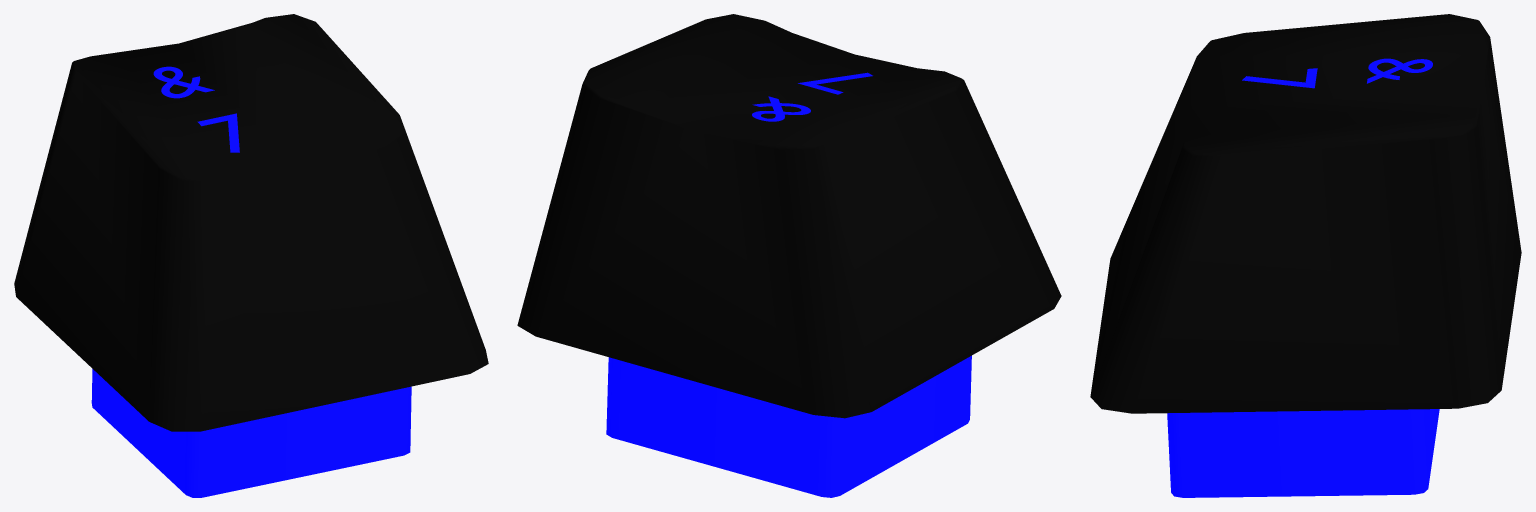
The model's file is key_7_1-CVq_2Tjt.glb.
3 renders of one model, left to right at view 1: azimuth 30°, elevation 25°; view 2: azimuth 150°, elevation 25°; view 3: azimuth 270°, elevation 25°, orthographic. The views are drawn at different scales.
Parts seen in each view (by area): view 1: StudyShelf_752; view 2: StudyShelf_752; view 3: StudyShelf_752.
Boxes of the visible parts, x1=… form: StudyShelf_752: x1=14, y1=14, x2=488, y2=497; StudyShelf_752: x1=517, y1=14, x2=1061, y2=497; StudyShelf_752: x1=1090, y1=14, x2=1521, y2=497.
Bounding box in the file's own units: 4.35 × 4.14 × 4.35.
